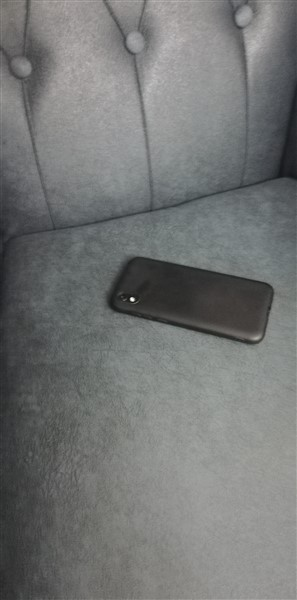telefon: (102, 254, 276, 345)
